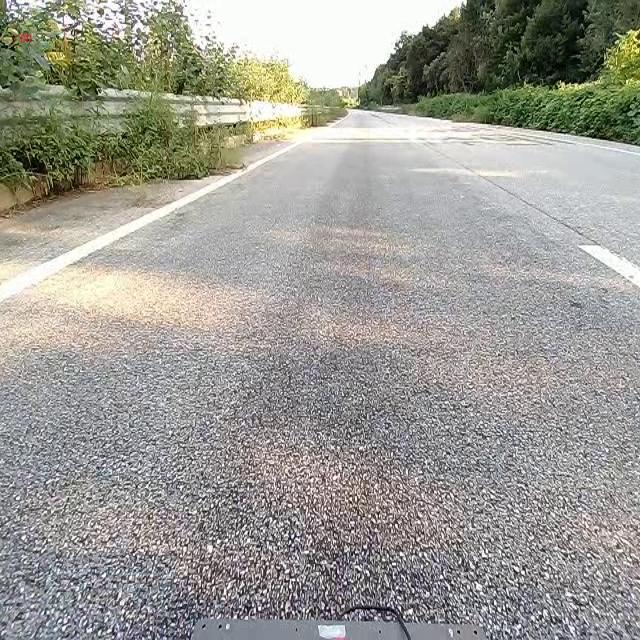Lane: (0, 139, 303, 308), (0, 142, 301, 304), (574, 234, 640, 289), (580, 245, 639, 287)
